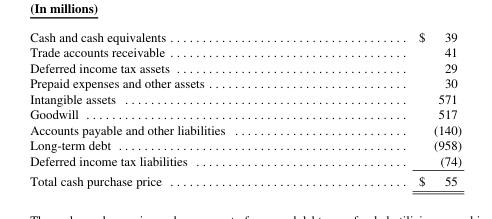table: (29, 29, 461, 188)
table column: (29, 29, 321, 188), (321, 29, 461, 188)
table row: (29, 152, 461, 170), (29, 170, 461, 188), (29, 59, 461, 75), (29, 90, 461, 106), (29, 121, 461, 137), (29, 29, 461, 44), (29, 44, 461, 59), (29, 75, 461, 90), (29, 106, 461, 121), (29, 137, 461, 152)
